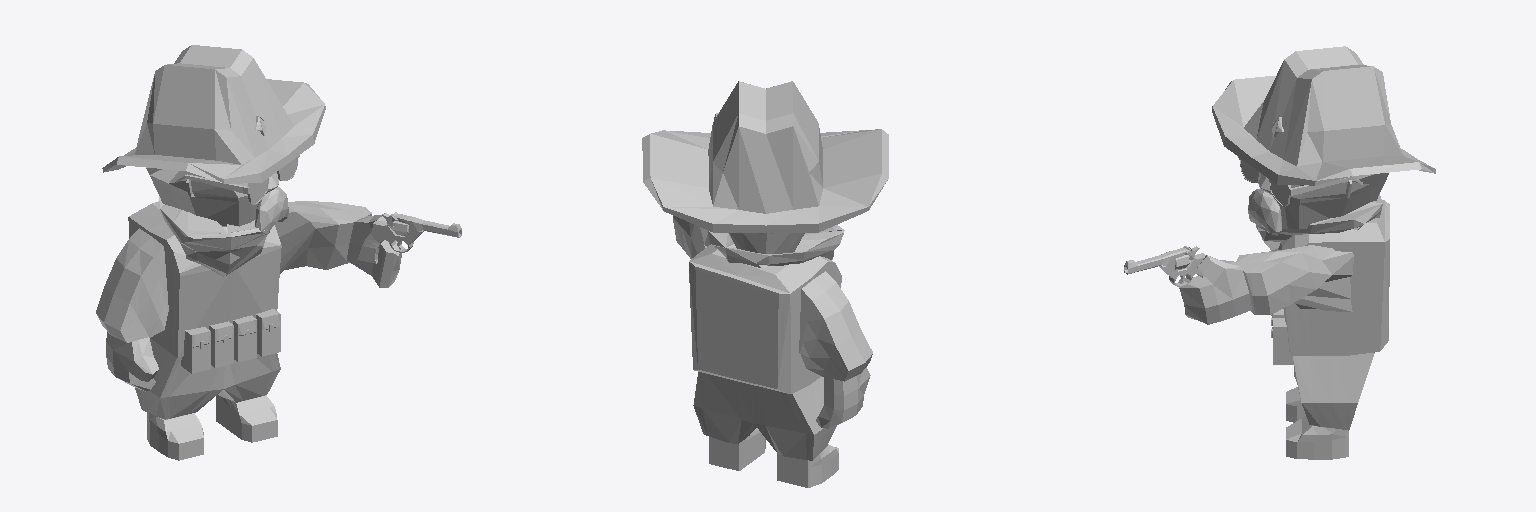
Rendered from gun_man.obj.
3 renders of one model, left to right at view 1: azimuth 30°, elevation 25°; view 2: azimuth 150°, elevation 25°; view 3: azimuth 270°, elevation 25°, orthographic.
Visible parts, largest first — view 1: Cube.1034; view 2: Cube.1034; view 3: Cube.1034.
Boxes of the visible parts, box(x1,y1,x2,y2) form: Cube.1034: box(96, 45, 461, 460); Cube.1034: box(642, 81, 888, 487); Cube.1034: box(1124, 46, 1435, 459).
Size of the model in its own units: 0.631 by 0.8742 by 0.6558.